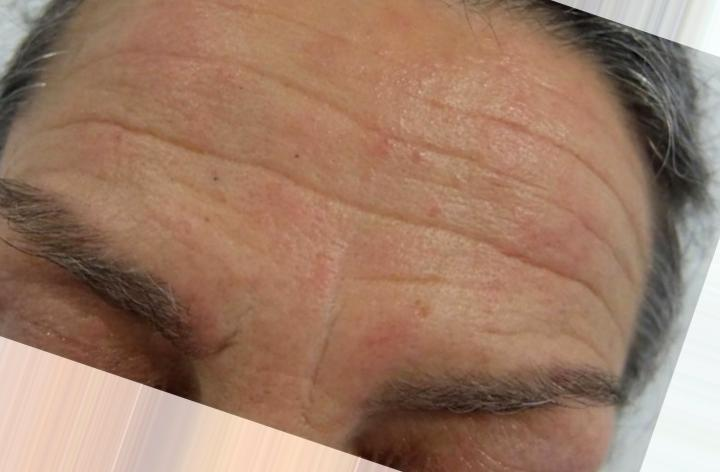Contact Dermatitis: (99, 25, 528, 226)
